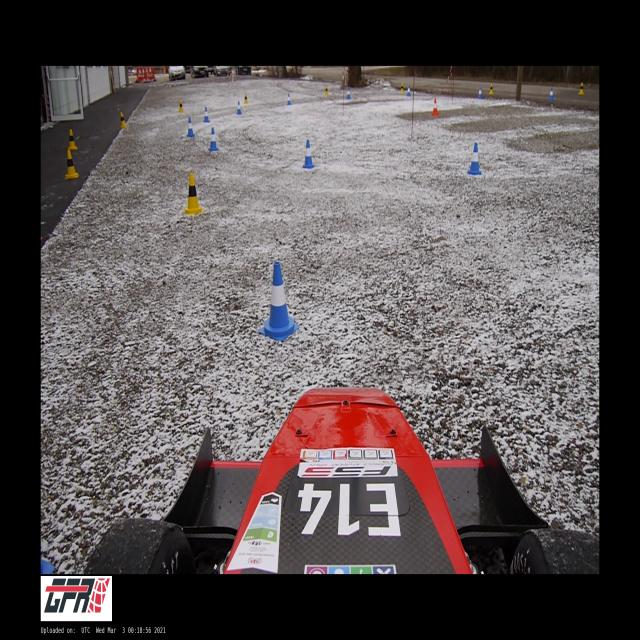blue_cone: (260, 262, 300, 340), (468, 143, 482, 175), (302, 140, 314, 168), (209, 128, 218, 151), (187, 118, 194, 137), (203, 107, 210, 122), (236, 102, 242, 115), (406, 84, 411, 96), (346, 88, 351, 99), (287, 93, 291, 105), (549, 88, 553, 100), (478, 87, 482, 98)
orange_cone: (431, 98, 439, 116)
yellow_cone: (183, 173, 204, 214), (65, 150, 78, 178), (68, 129, 77, 149), (120, 112, 126, 127), (178, 99, 184, 112), (578, 83, 584, 94), (489, 83, 494, 94), (244, 92, 248, 104), (324, 84, 328, 96), (400, 83, 404, 93)
